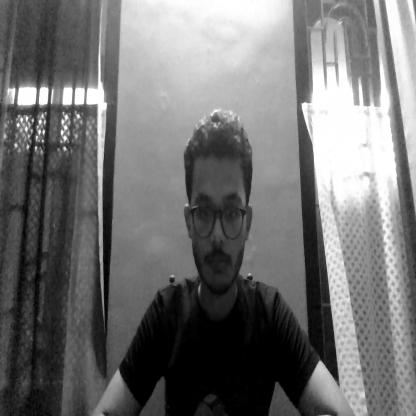Normal: (186, 110, 260, 295)
